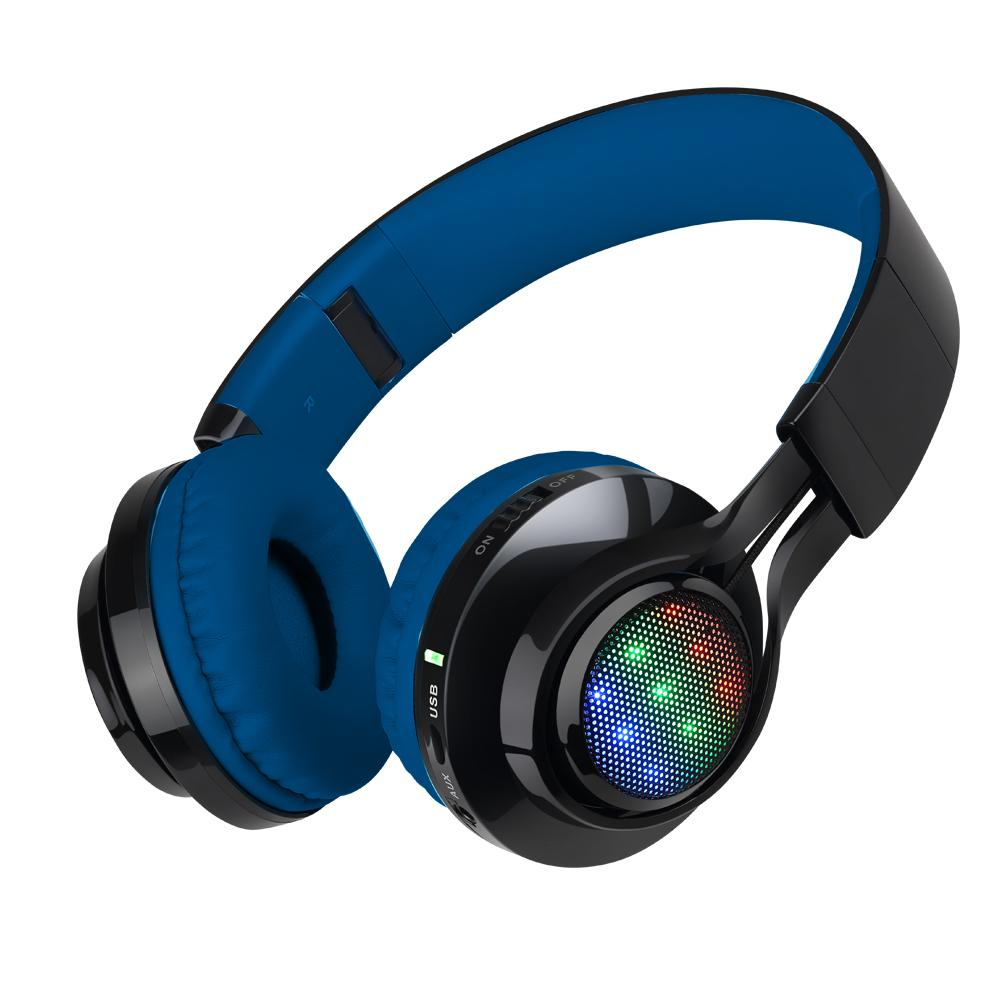Headphone: (73, 72, 968, 897)
